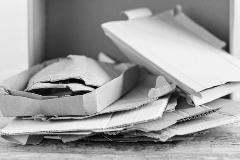paper: (1, 4, 239, 144), (100, 4, 240, 106), (0, 54, 176, 120), (1, 92, 173, 144), (23, 54, 114, 96), (122, 6, 152, 20)
